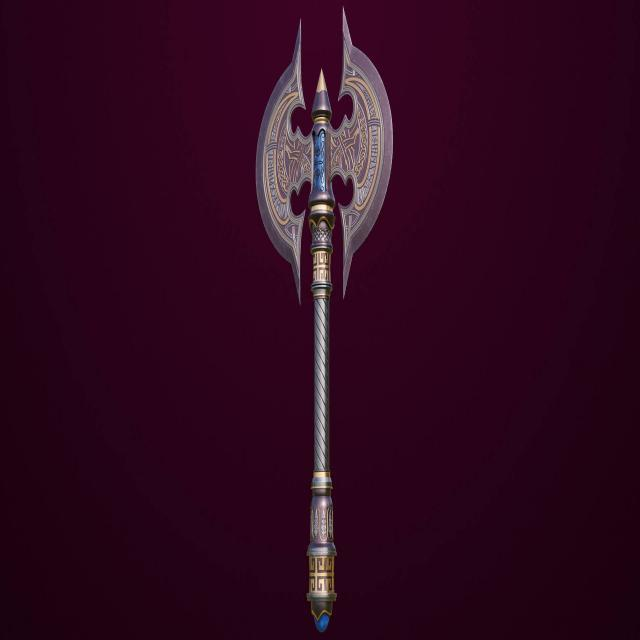axe: (260, 7, 396, 640)
